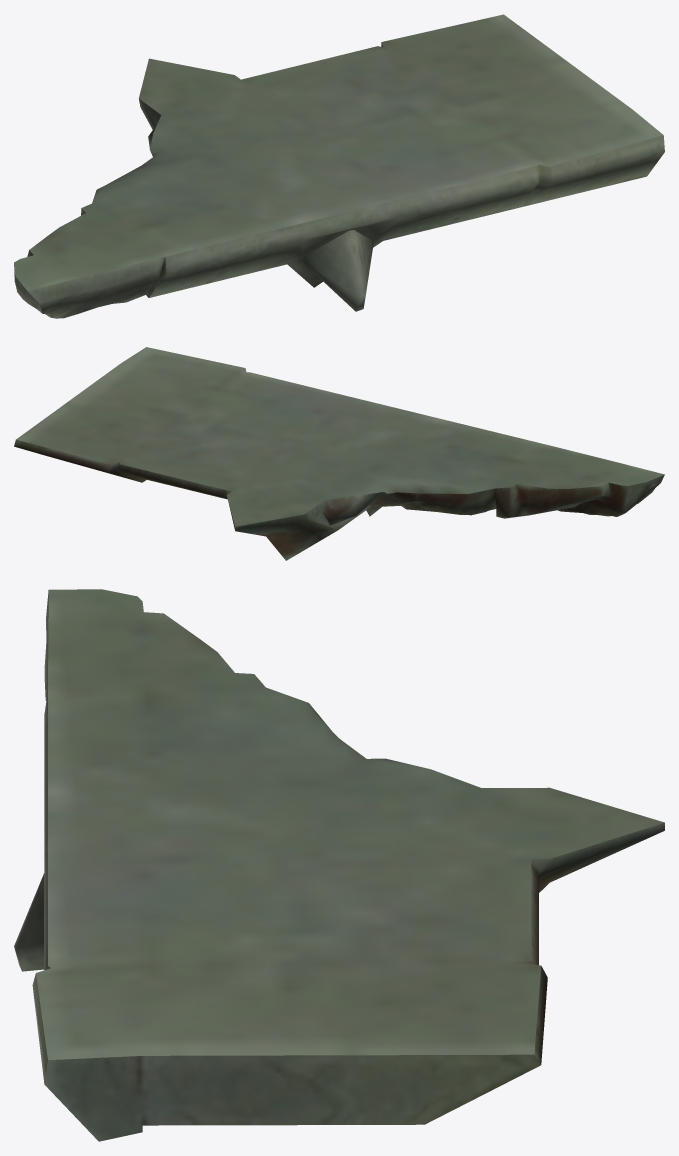
The model's file is Ruins_Trim_Top_DMG_4M_A.fbx.
The picture shows the model from 3 angles, top to bottom: view 1: azimuth 30°, elevation 25°; view 2: azimuth 150°, elevation 25°; view 3: azimuth 270°, elevation 25°; orthographic projection. The views are drawn at different scales.
Visible parts, largest first — view 1: Ruins_Trim_Top_DMG_4M_A; view 2: Ruins_Trim_Top_DMG_4M_A; view 3: Ruins_Trim_Top_DMG_4M_A.
Part boxes in pixels (left/top/right/bottom): Ruins_Trim_Top_DMG_4M_A: left=14, top=14, right=664, bottom=318; Ruins_Trim_Top_DMG_4M_A: left=14, top=347, right=664, bottom=560; Ruins_Trim_Top_DMG_4M_A: left=14, top=589, right=664, bottom=1141.
Size of the model in its own units: 510 by 83.1 by 297.
